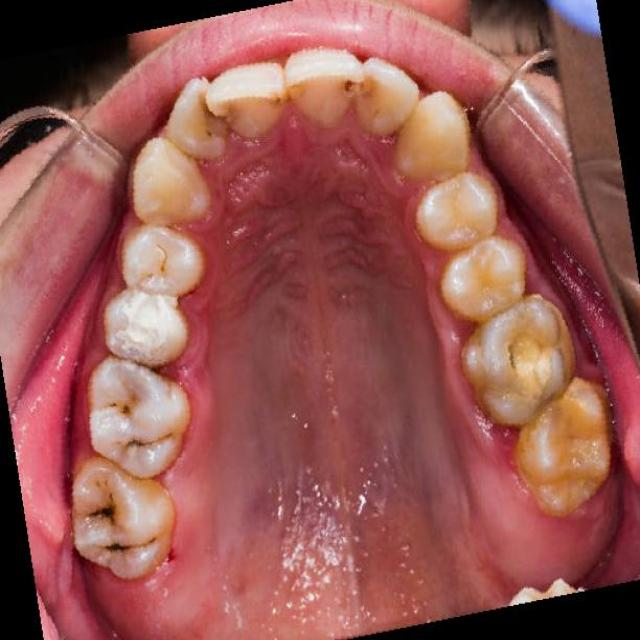caries: (107, 292, 186, 365), (84, 479, 126, 537), (102, 388, 141, 431), (202, 104, 241, 143), (118, 429, 179, 453), (268, 76, 305, 113), (101, 539, 166, 560), (340, 72, 370, 106), (150, 241, 172, 279)
